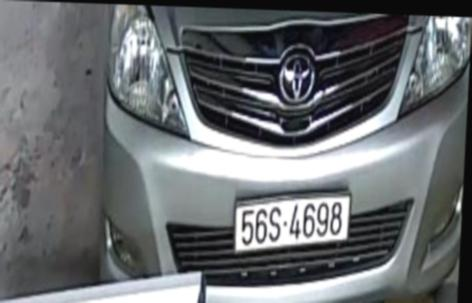License_Plate: (227, 179, 357, 261)
